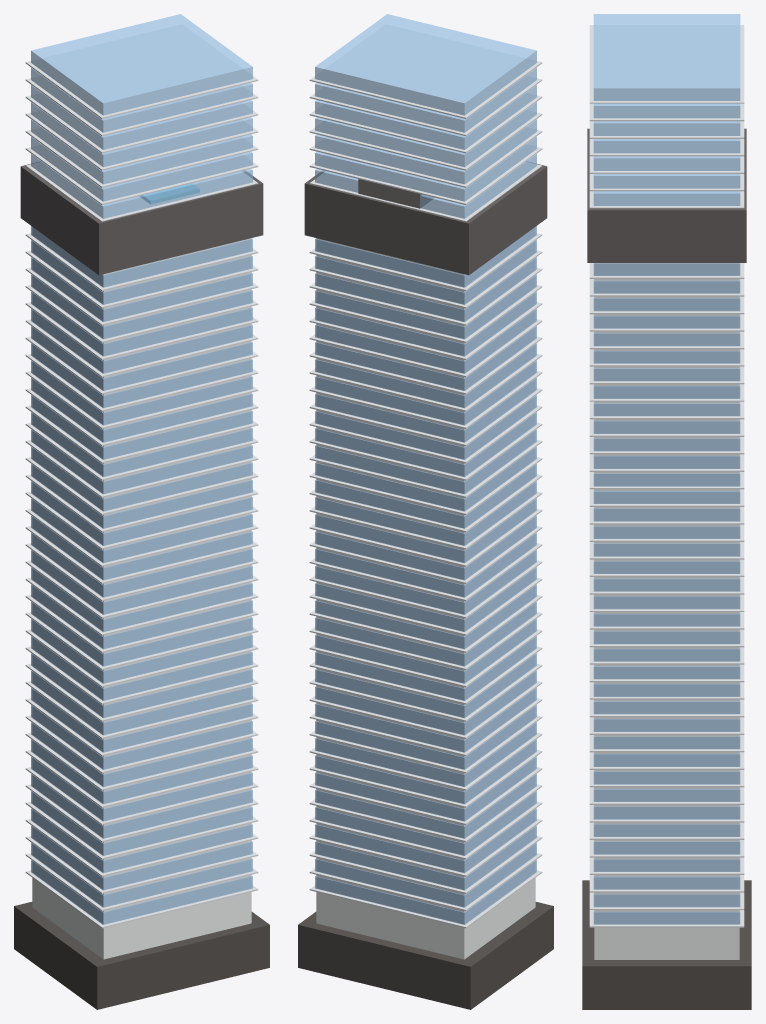
File: grand_urban_tower_50f.gltf
3 renders of one model, left to right at view 1: azimuth 30°, elevation 25°; view 2: azimuth 150°, elevation 25°; view 3: azimuth 270°, elevation 25°, orthographic.
Bounding box in the file's own units: 420 × 2090 × 350.
